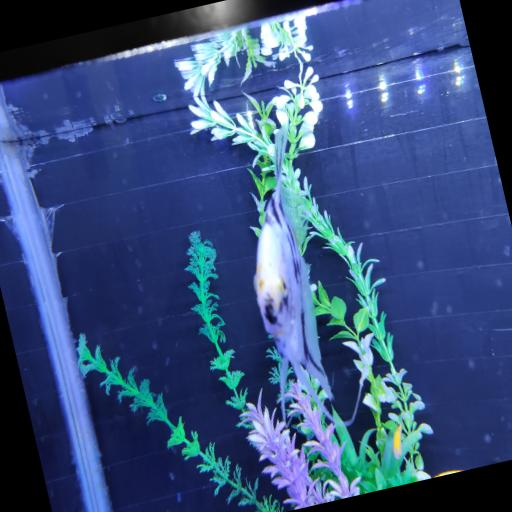Fish: (254, 125, 333, 421), (393, 425, 402, 458)
